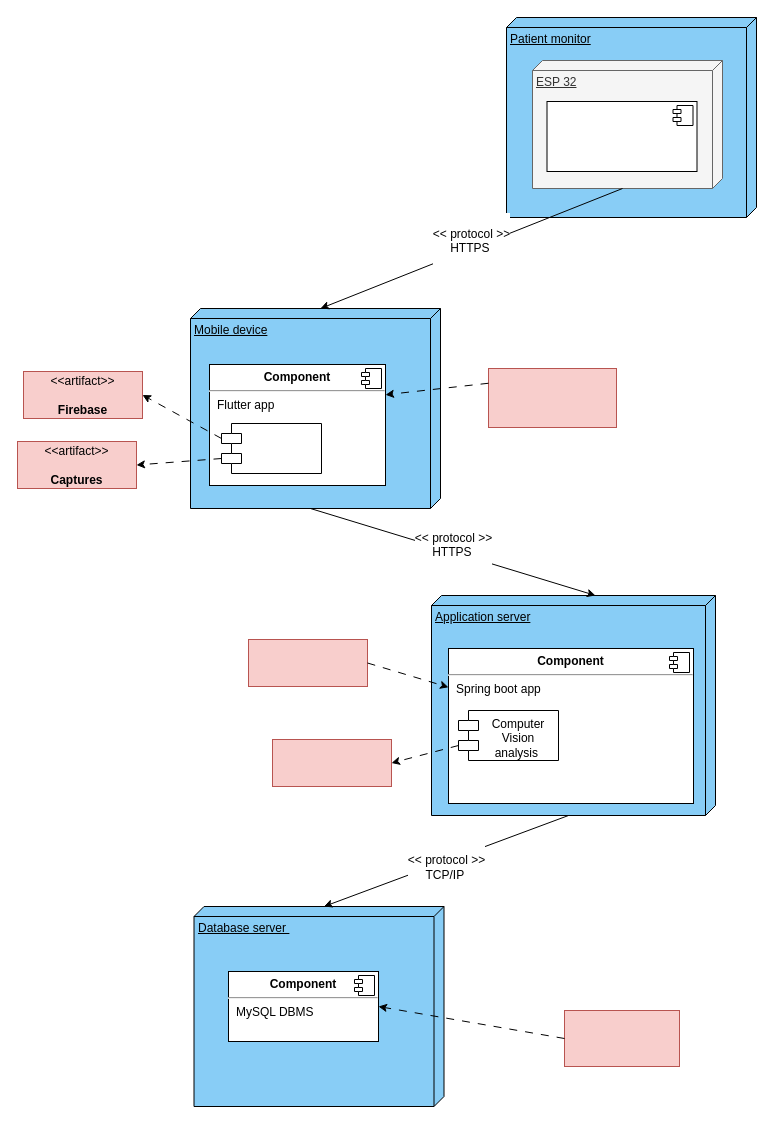
The diagram is 774 pixels wide and 1124 high, and some of its shapes have lost their labels. Here are the shapes that lost their labels. From the top down, the centre of each, then its label:
(x=621, y=136): Component Caputre frames Algorithm
(x=552, y=398): <<artifact>> VU Frontend
(x=271, y=448): Streaming
(x=308, y=662): <<artifact>> VU backend
(x=332, y=762): <<artifact>> Frames
(x=622, y=1038): <<artifact>> relational database tabels
